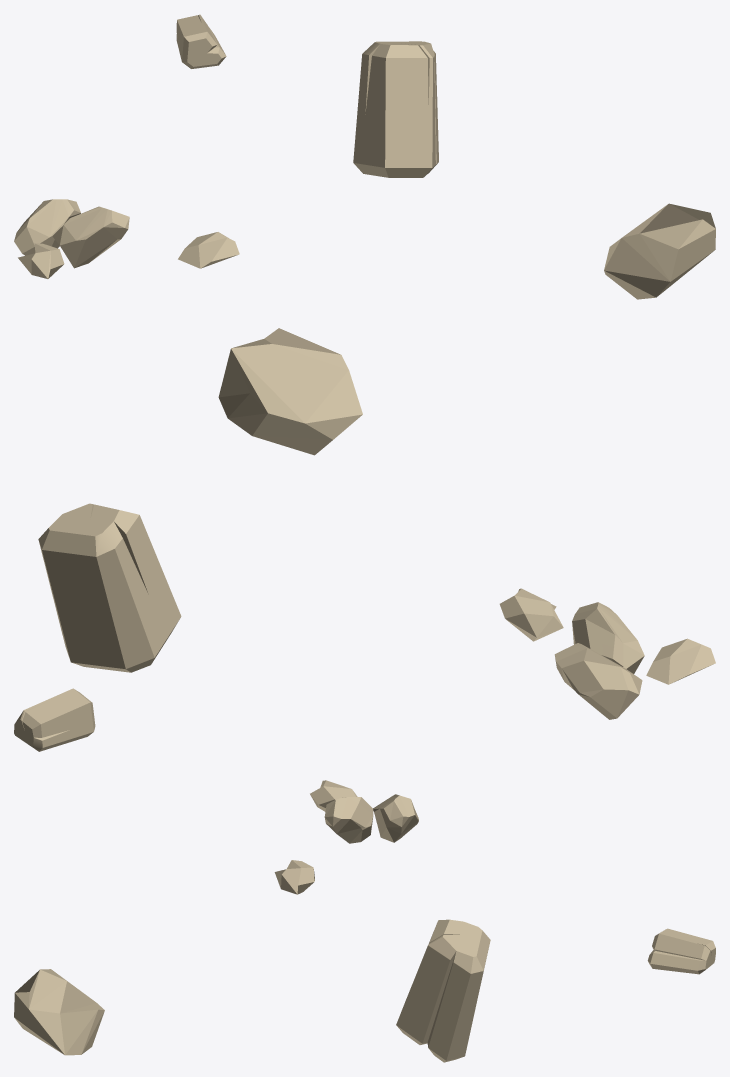
File: Green_4.glb
The picture shows the model from 3 angles, top to bottom: view 1: azimuth 30°, elevation 25°; view 2: azimuth 150°, elevation 25°; view 3: azimuth 270°, elevation 25°; orthographic projection. The views are drawn at different scales.
Parts seen in each view (by area): view 1: polySurface10581; view 2: polySurface10581; view 3: polySurface10581.
Part boxes in pixels (bbox=[...]): polySurface10581: bbox=[14, 14, 715, 299]; polySurface10581: bbox=[14, 328, 715, 751]; polySurface10581: bbox=[14, 780, 715, 1062].
Bounding box in the file's own units: 19.82 × 4.67 × 23.25.
